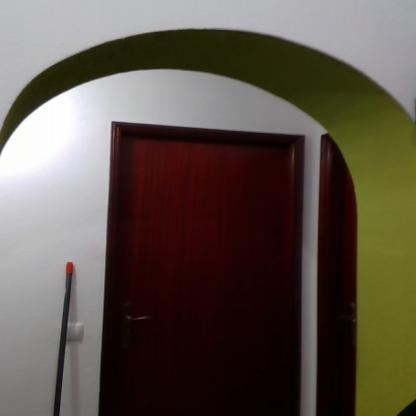door: (119, 138, 300, 416)
lever: (124, 314, 150, 328)
